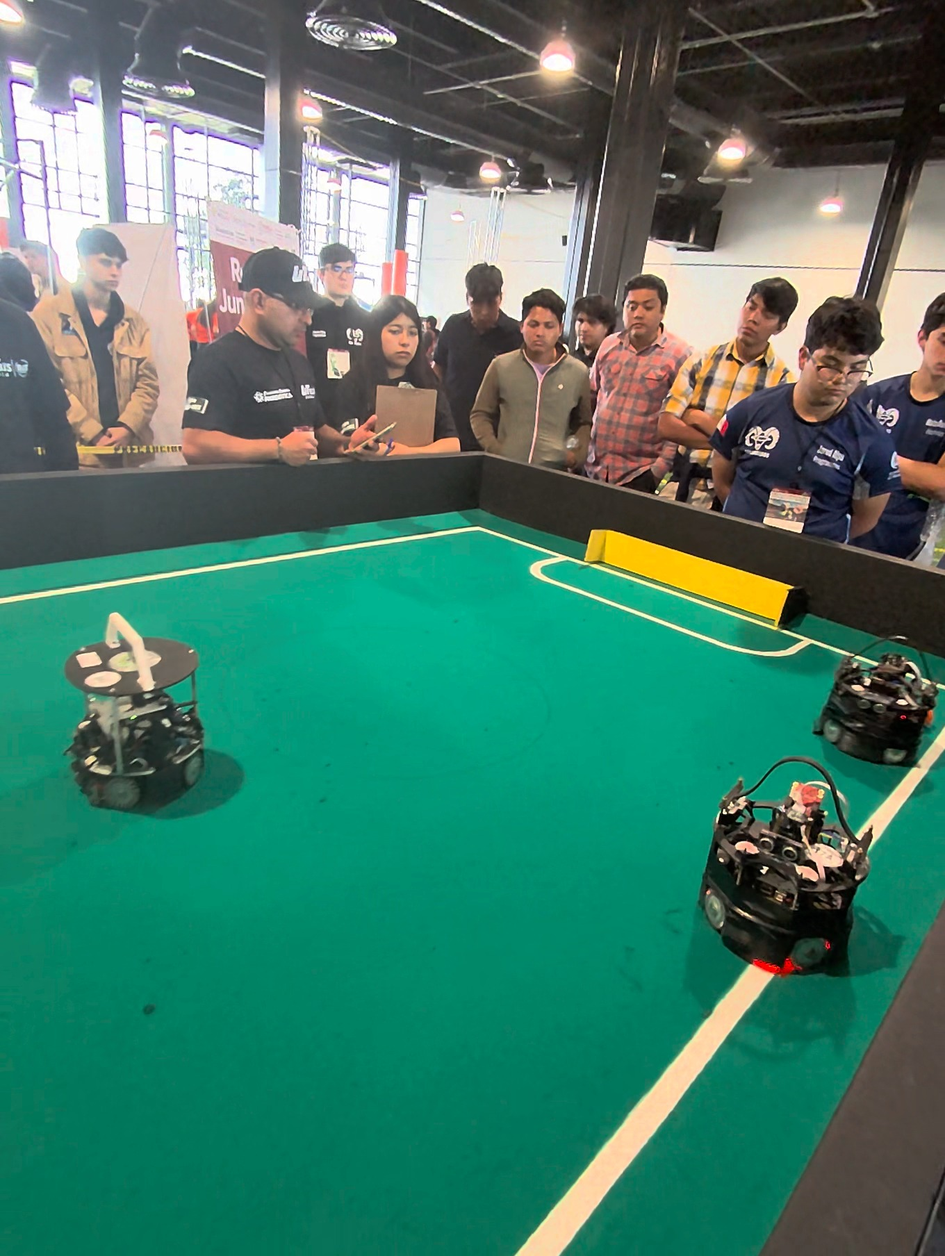Robot: (706, 743, 881, 991), (50, 609, 218, 827), (814, 634, 945, 782)
